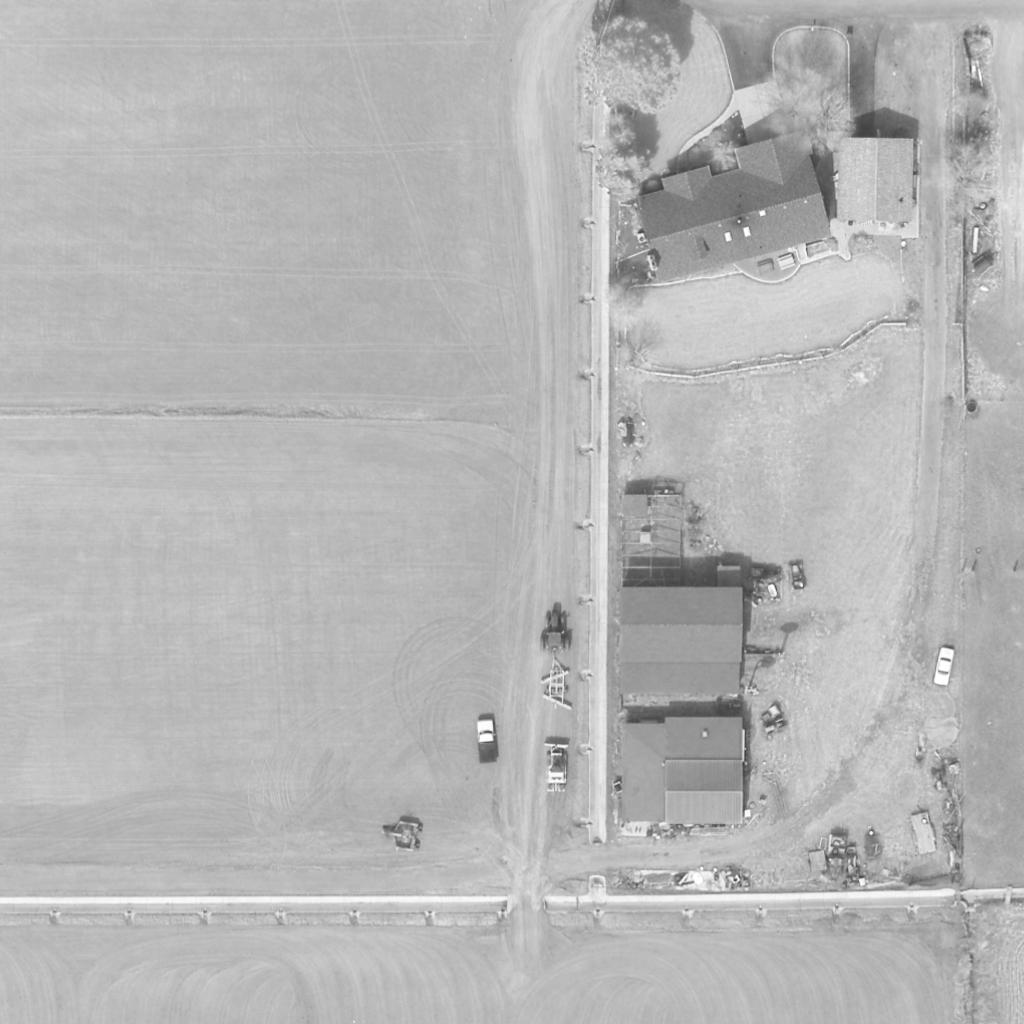vehicle: (538, 610, 574, 654), (544, 743, 572, 795), (474, 720, 500, 766), (932, 646, 958, 686)
